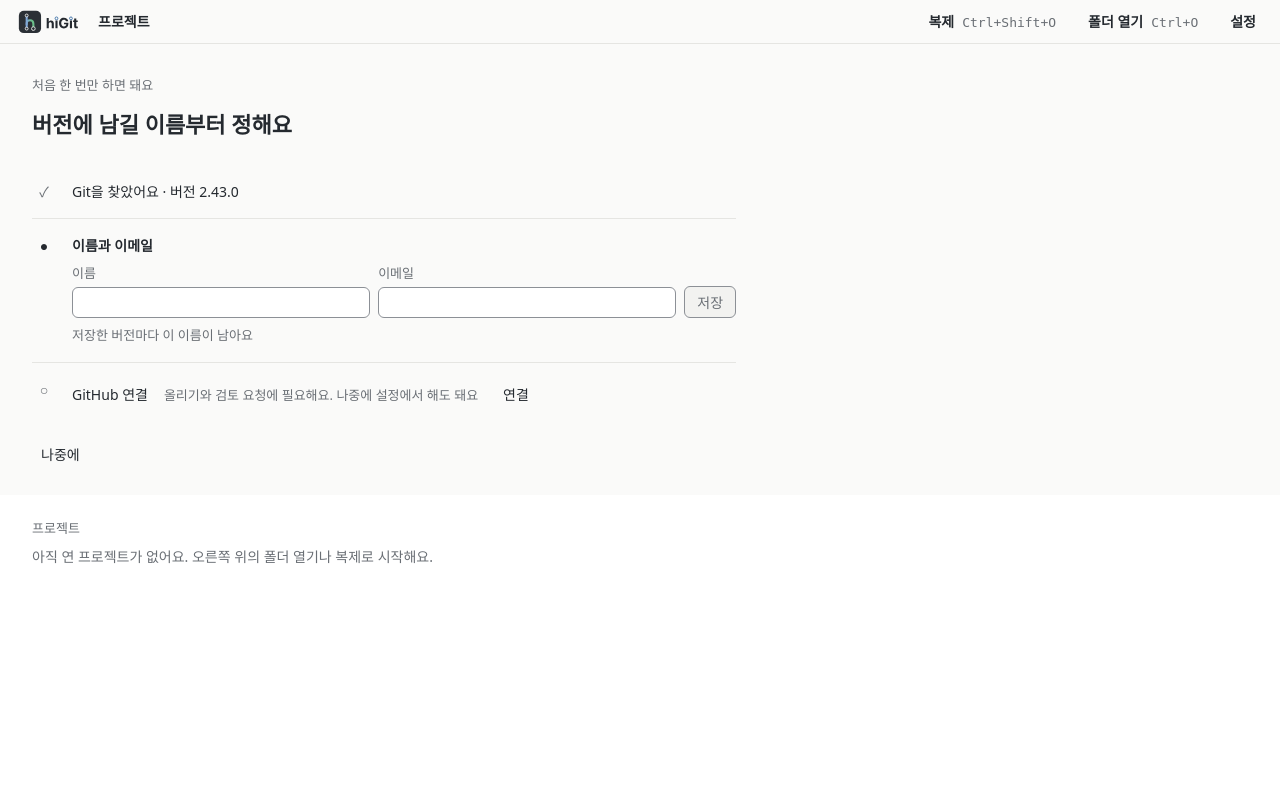
Test: 처음 실행 패널(D-126, start-first.png) › 저장하면 다시 읽어 패널이 사라진다
The image size is (1280, 800).
In the field labelled "이름": (221, 302) [72, 287, 370, 318], type "김준호"
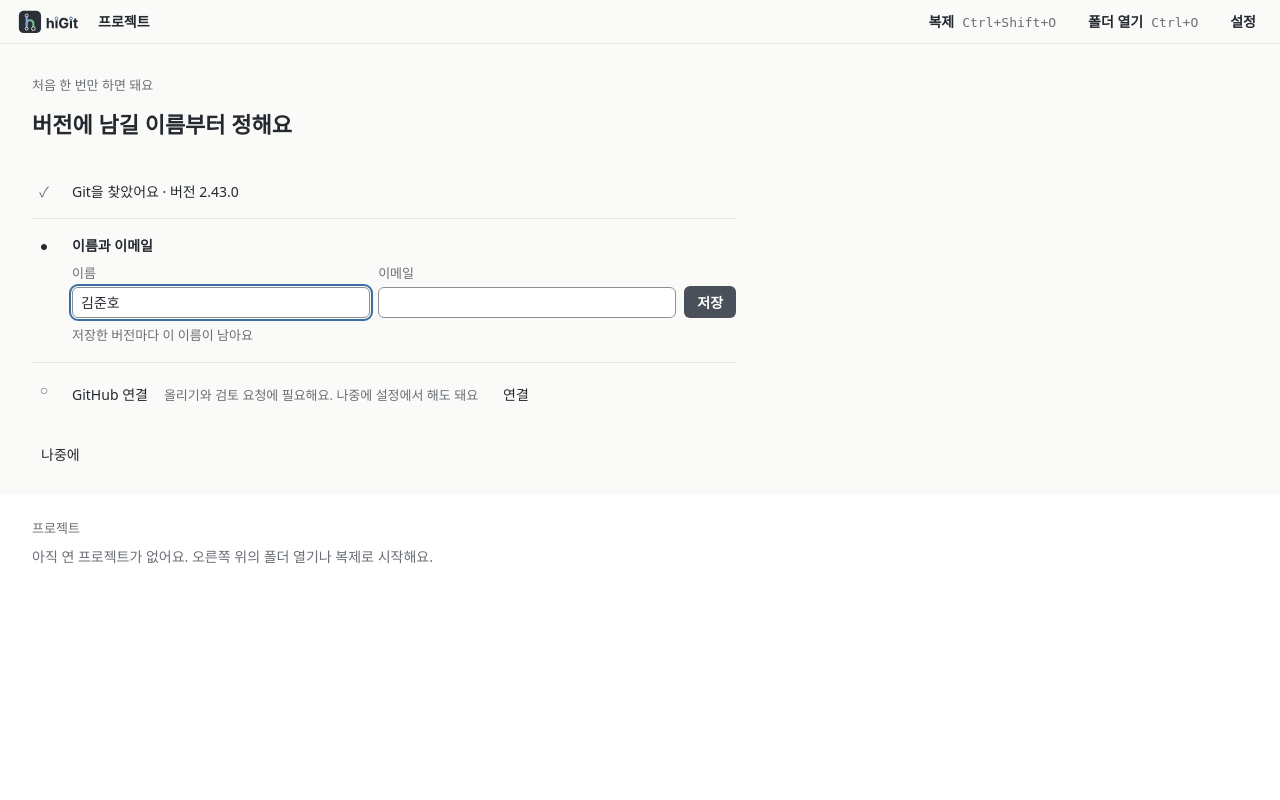
In the field labelled "이메일": (527, 302) [378, 287, 676, 318], type "j@example.com"
Then press Enter
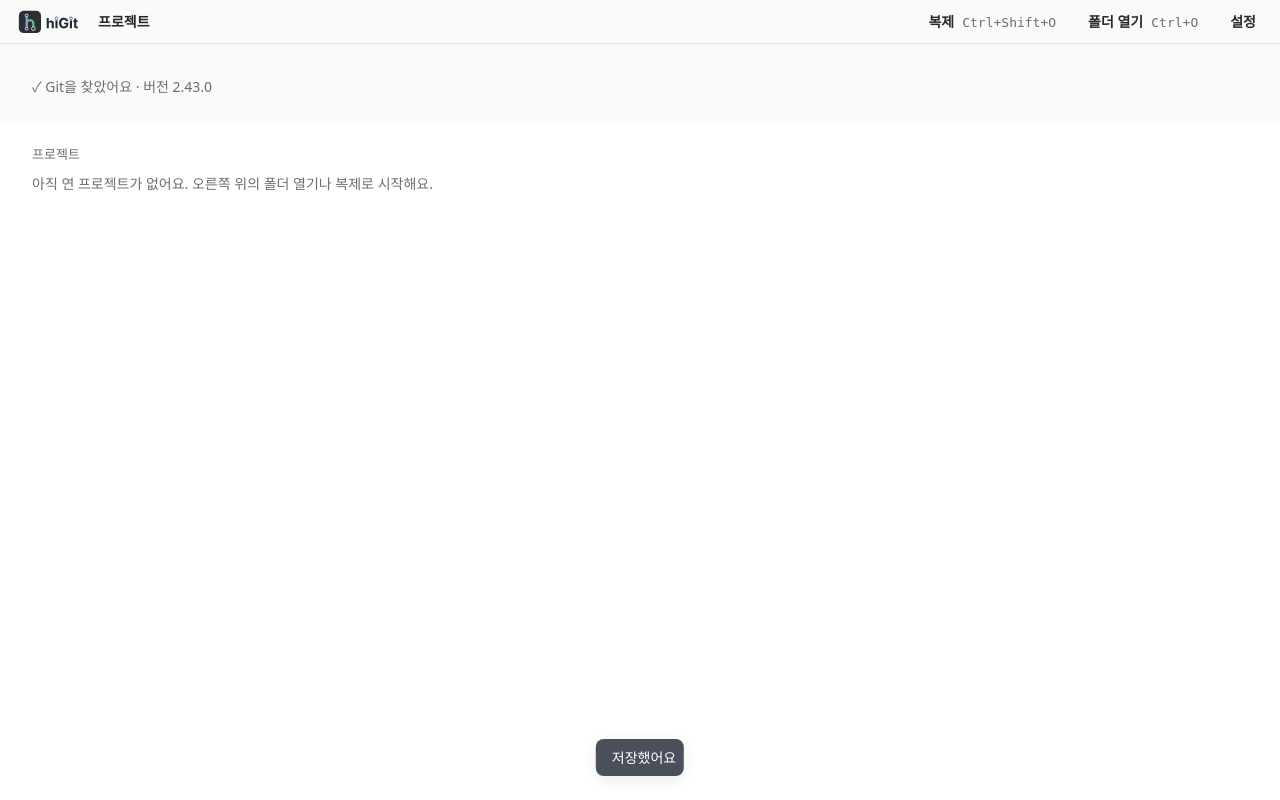
Check: the text "✓ Git을 찾았어요 · 버전 2.43.0" is shown, box [32, 77, 212, 96]
Check: the heading "버전에 남길 이름부터 정해요" is gone
